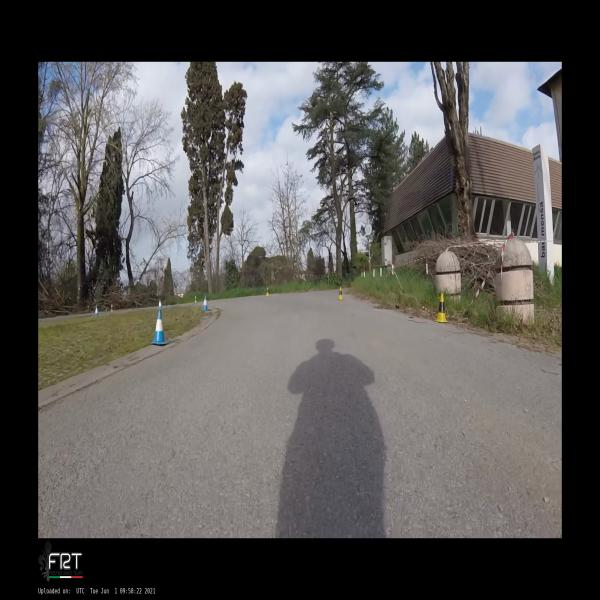blue_cone: (150, 311, 169, 345), (202, 296, 209, 311), (156, 298, 163, 311), (93, 305, 100, 317)
yellow_cone: (433, 293, 449, 322), (337, 286, 344, 300), (266, 287, 270, 296), (194, 295, 197, 303), (111, 303, 113, 312)
